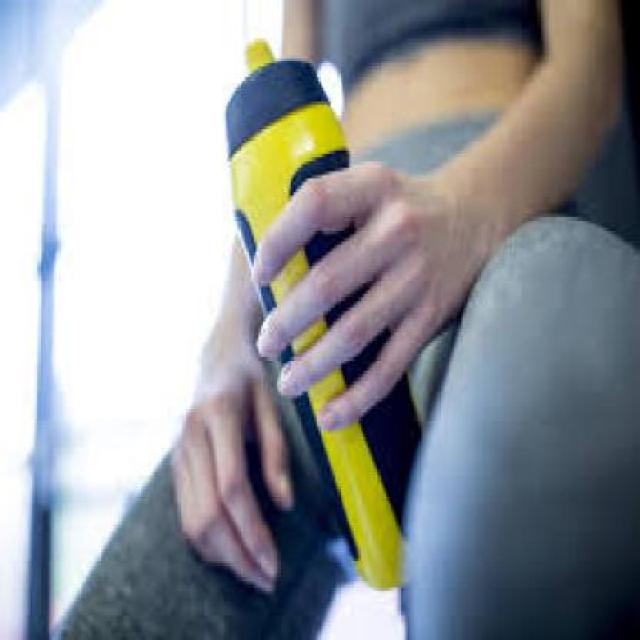Drinking: (223, 38, 440, 580)
